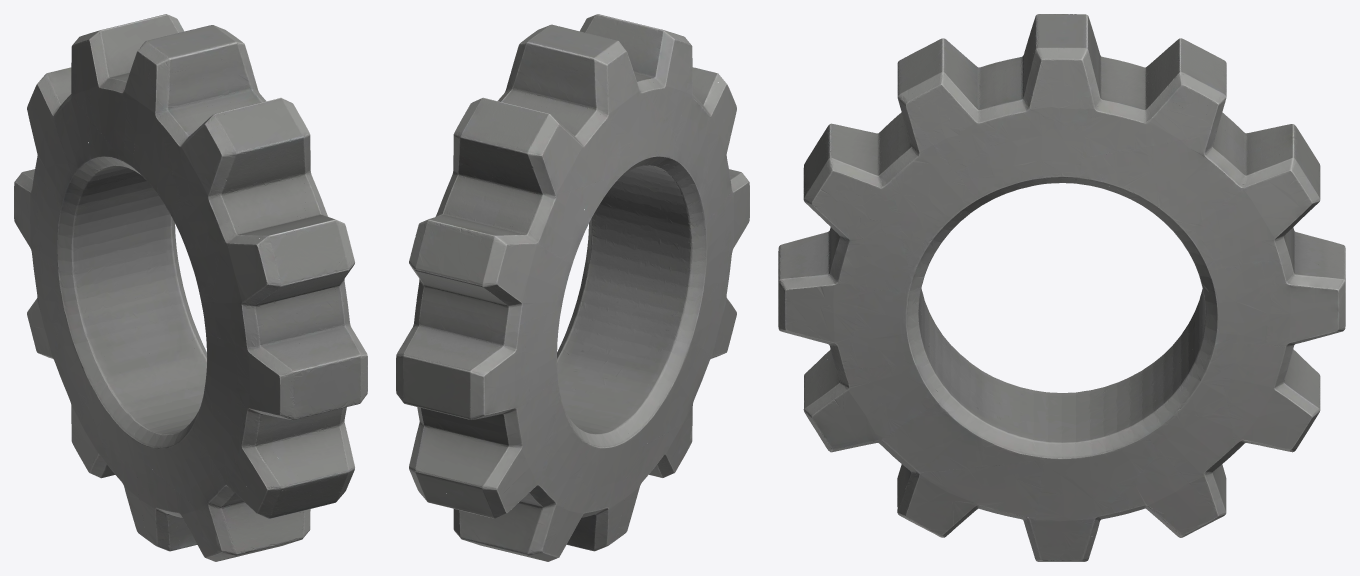
Rendered from gear_icon_optimized.glb.
3 views of the same model, side by side, from view 1: azimuth 30°, elevation 25°; view 2: azimuth 150°, elevation 25°; view 3: azimuth 270°, elevation 25° (orthographic). The views are drawn at different scales.
Visible parts, largest first — view 1: tripo_node_62a9bff7-3382-417e-99d2-a77d02185af3; view 2: tripo_node_62a9bff7-3382-417e-99d2-a77d02185af3; view 3: tripo_node_62a9bff7-3382-417e-99d2-a77d02185af3.
Boxes of the visible parts, bbox=[...] form: tripo_node_62a9bff7-3382-417e-99d2-a77d02185af3: bbox=[14, 14, 367, 561]; tripo_node_62a9bff7-3382-417e-99d2-a77d02185af3: bbox=[396, 14, 749, 561]; tripo_node_62a9bff7-3382-417e-99d2-a77d02185af3: bbox=[778, 14, 1345, 561].
Size of the model in its own units: 0.2501 by 1 by 1.
Materials: 1 (1 with a texture image).
